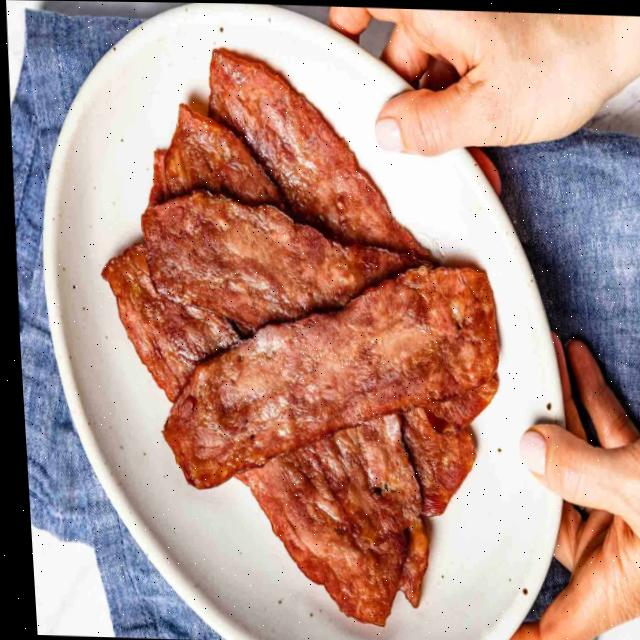Bacon: (158, 264, 494, 486), (207, 46, 425, 256), (138, 190, 414, 332), (98, 242, 237, 401), (297, 412, 414, 541)
